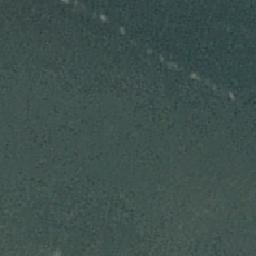debris: (91, 9, 107, 22), (164, 60, 181, 71), (116, 24, 128, 36), (226, 90, 237, 100), (144, 46, 155, 56), (189, 71, 200, 80)
